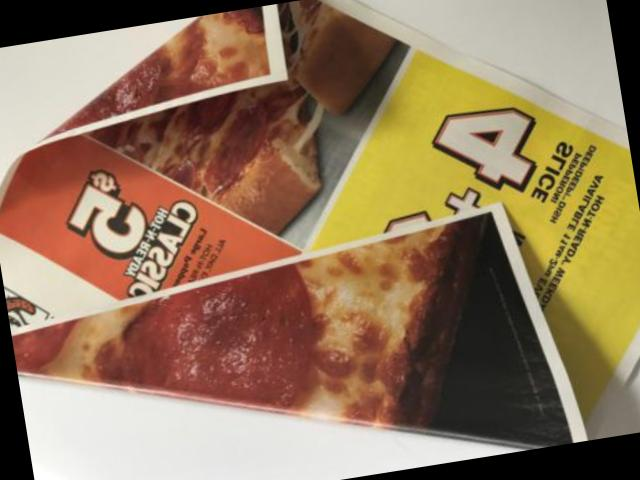cardboard paper: (0, 0, 640, 451)
